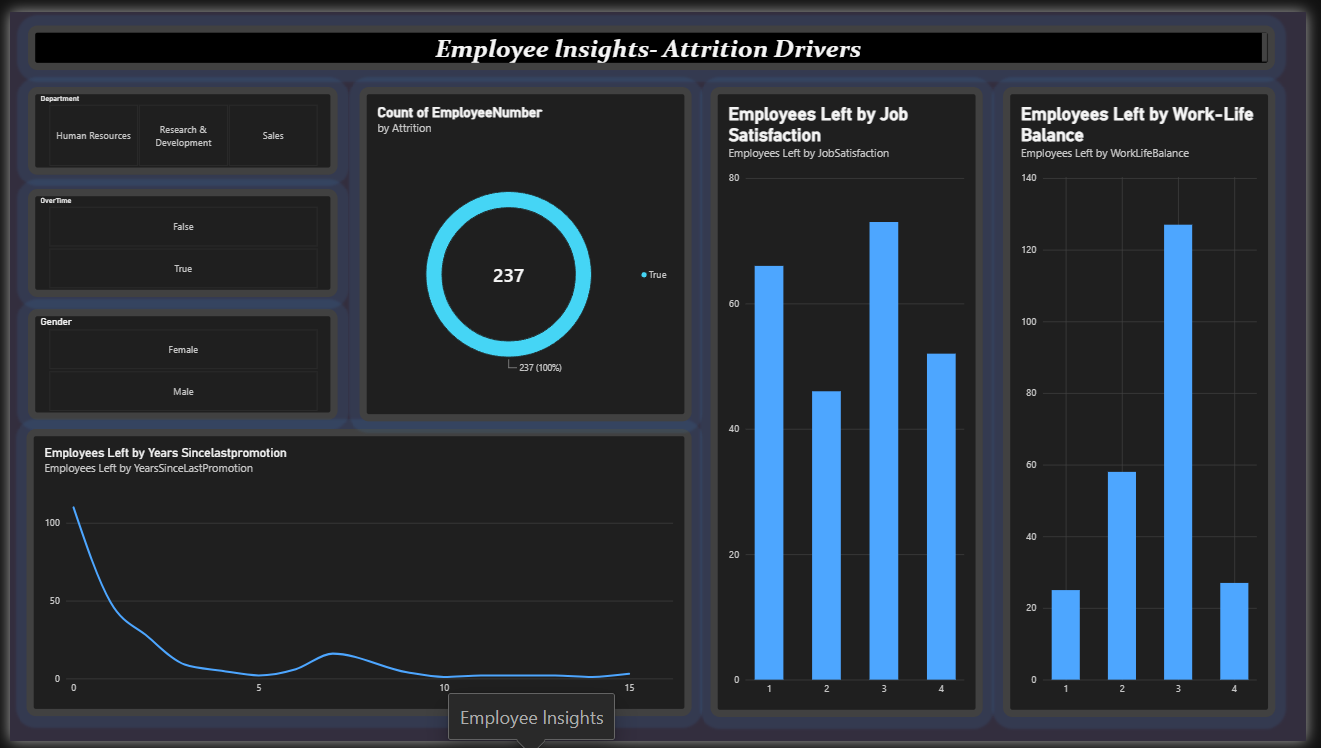

This screenshot's page, from the dashboard's own definition file:
{"tool":"powerbi","page":{"name":"Employee lnsights","canvas":[1920,1080],"ordinal":2},"visuals":[{"type":"columnChart","title":"Employees Left by Job Satisfaction","fields":{"Category":["hr_data.JobSatisfaction"],"Y":["hr_data.Employees Left"]},"box":[1036.7,110,403.3,933.3],"z":0},{"type":"clusteredColumnChart","title":"Employees Left by Work-Life Balance","fields":{"Category":["hr_data.WorkLifeBalance"],"Y":["hr_data.Employees Left"]},"box":[1470,110,403.3,933.3],"z":1000},{"type":"slicer","fields":{"Values":["hr_data.Department"]},"box":[25.7,110,458.6,130],"z":2000},{"type":"slicer","fields":{"Values":["hr_data.Gender"]},"box":[25.7,440,458.6,164.3],"z":3000},{"type":"slicer","fields":{"Values":["hr_data.OverTime"]},"box":[25.7,262.9,458.6,160],"z":4000},{"type":"textbox","box":[25.7,20,1847.1,65.7],"z":5000},{"type":"lineChart","title":"Employees Left by Years Sincelastpromotion","fields":{"Category":["hr_data.YearsSinceLastPromotion"],"Y":["hr_data.Employees Left"]},"box":[25,617.5,985,425],"z":5001},{"type":"donutChart","fields":{"Category":["hr_data.Attrition"],"Y":["CountNonNull(hr_data.EmployeeNumber)"]},"box":[518.3,110,491.7,495],"z":5002}]}

Visuals, with their boxes in screenshot pixels (x1, y1, x2, y2), scaled from the page's 1920x1080 canvas onto the 1321x748 screenshot:
"Employees Left by Job Satisfaction" columnChart: [left=713, top=76, right=991, bottom=723]
"Employees Left by Work-Life Balance" clusteredColumnChart: [left=1011, top=76, right=1289, bottom=723]
slicer - hr_data.Department: [left=18, top=76, right=333, bottom=166]
slicer - hr_data.Gender: [left=18, top=305, right=333, bottom=419]
slicer - hr_data.OverTime: [left=18, top=182, right=333, bottom=293]
textbox: [left=18, top=14, right=1289, bottom=59]
"Employees Left by Years Sincelastpromotion" lineChart: [left=17, top=428, right=695, bottom=722]
donutChart - hr_data.Attrition x CountNonNull(hr_data.EmployeeNumber): [left=357, top=76, right=695, bottom=419]
